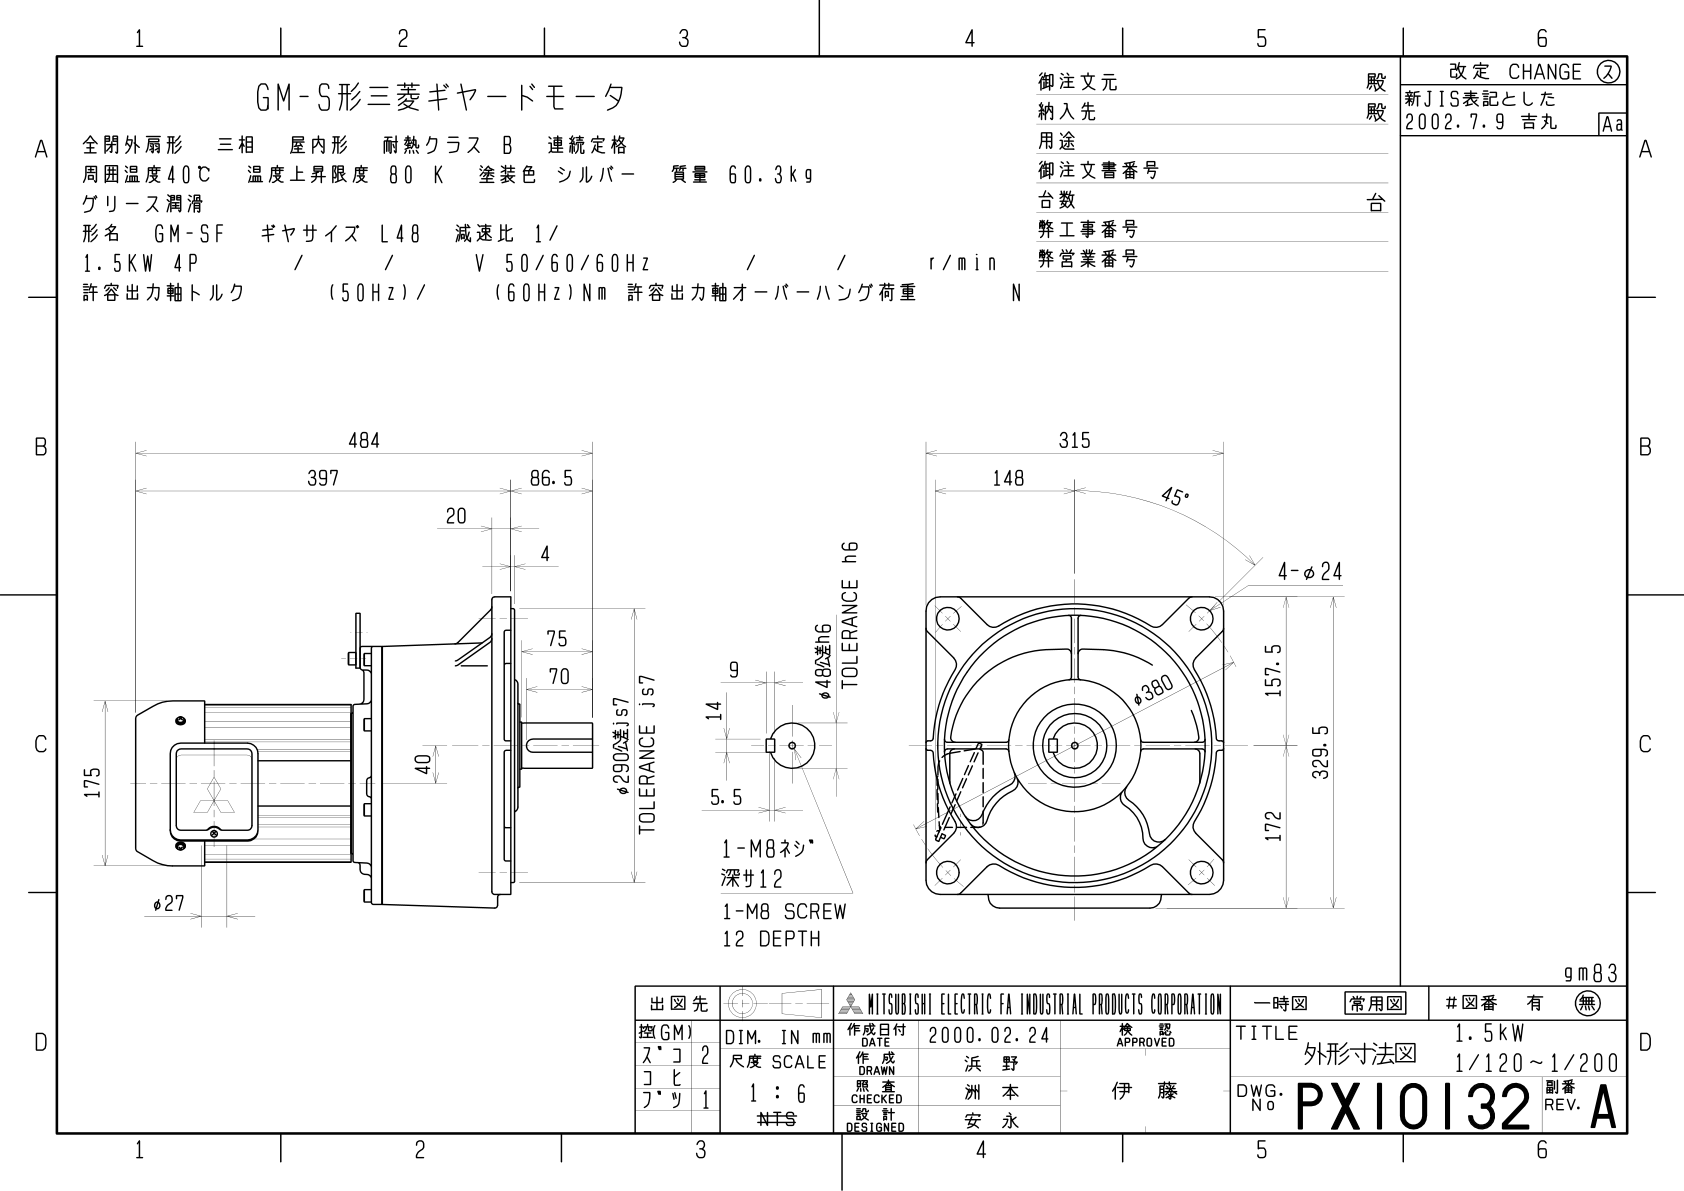GM_S_屋内＿三相_フランジ: (12, 3, 1684, 1191)
